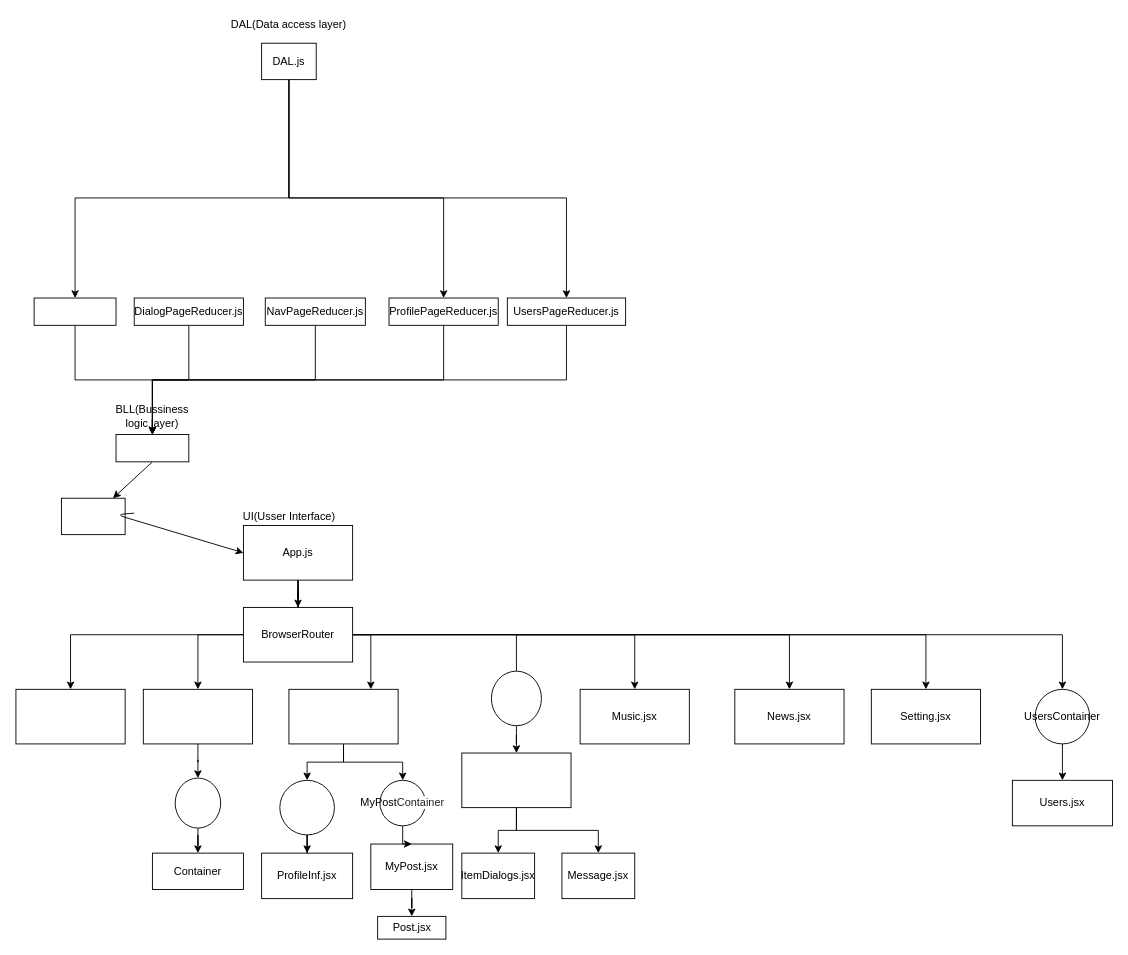
This 1128x955 diagram has some shape labels left out. Here are the shapes that lost their labels. From the top down, the centre of each, then its label:
At point 74,311: "authReducer.js".
At point 152,448: "state-Redux.js".
At point 93,516: "index.js".
At point 70,716: "Header.jsx".
At point 197,716: "Nav.jsx".
At point 343,716: "Profile.jsx".
At point 515,698: "Dialogs Containe r".
At point 516,780: "Dialogs.jsx".
At point 197,802: "FriendContainer".
At point 306,807: "ProfileinfContainer".
